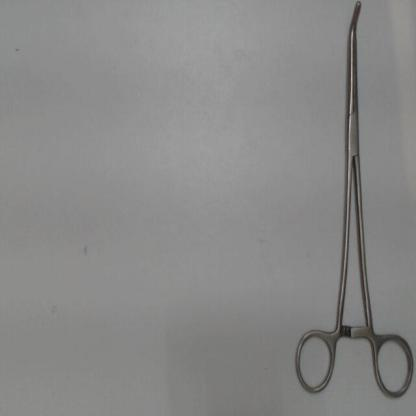Lahey Forceps: (288, 2, 414, 403)
